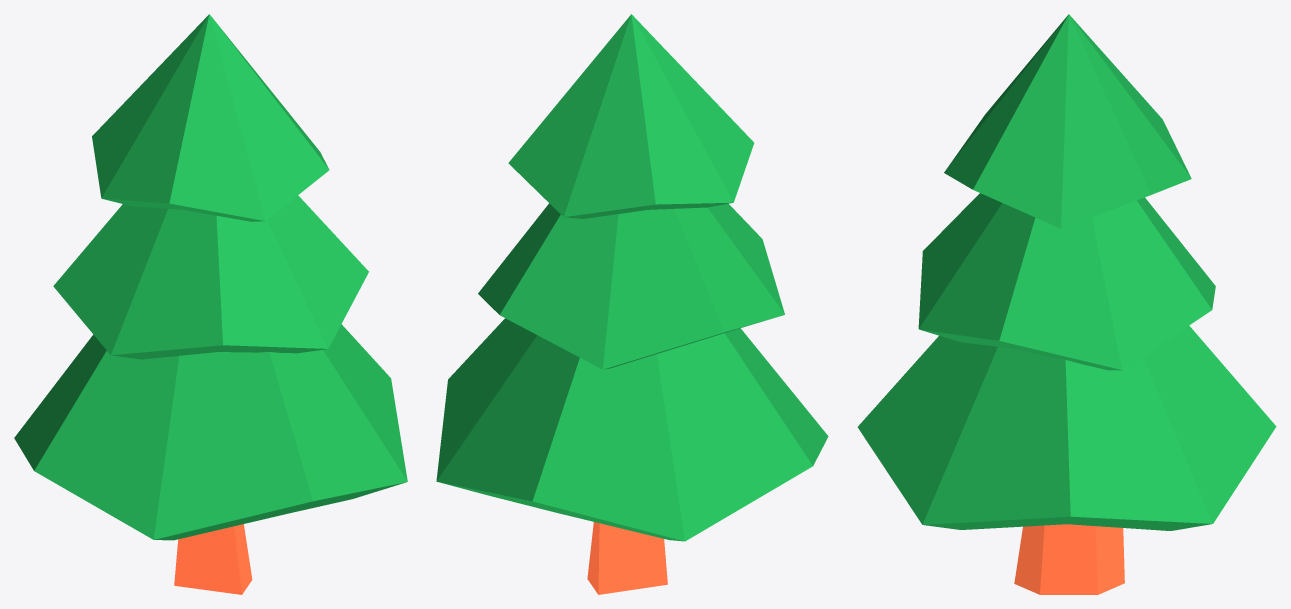
File: Tree.fbx
The picture shows the model from 3 angles, left to right: view 1: azimuth 30°, elevation 25°; view 2: azimuth 150°, elevation 25°; view 3: azimuth 270°, elevation 25°; orthographic projection.
Parts seen in each view (by area): view 1: Tree; view 2: Tree; view 3: Tree.
Boxes of the visible parts, <box> form: Tree: <box>14,14,407,594</box>; Tree: <box>436,14,828,594</box>; Tree: <box>857,14,1276,594</box>.
Bounding box in the file's own units: 162622 × 242080 × 162099.
